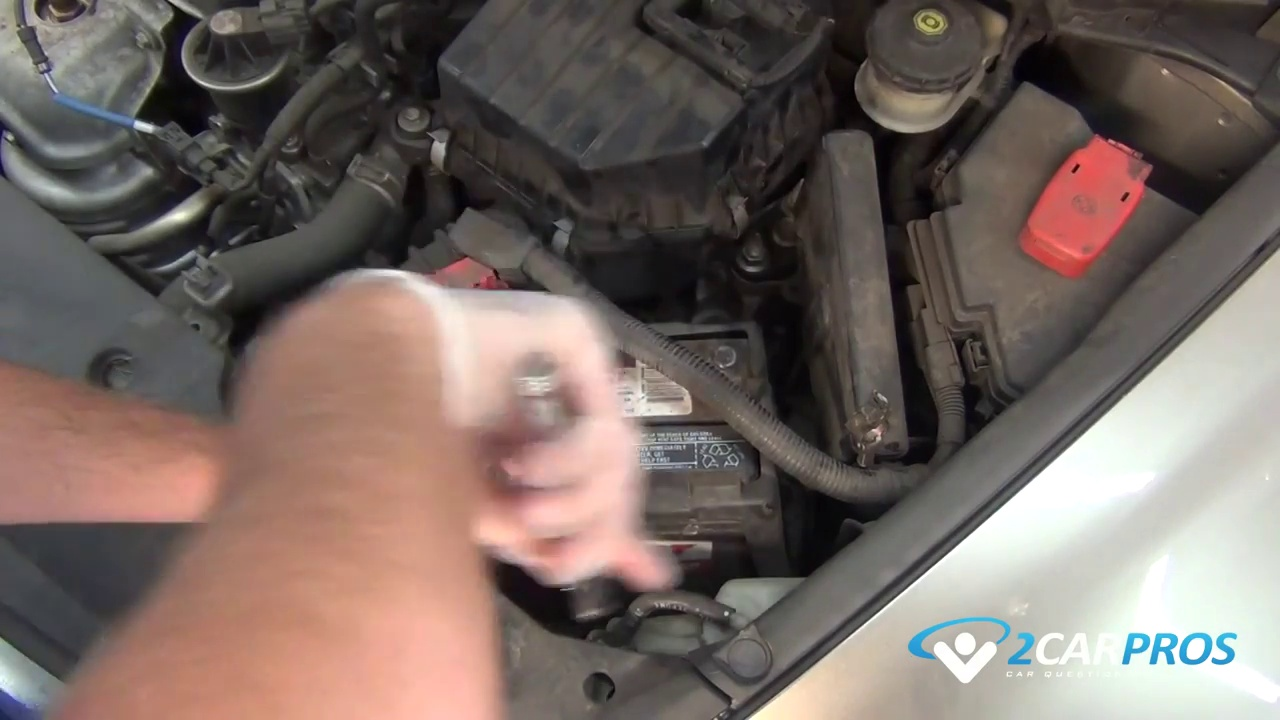battery: (575, 322, 759, 512)
